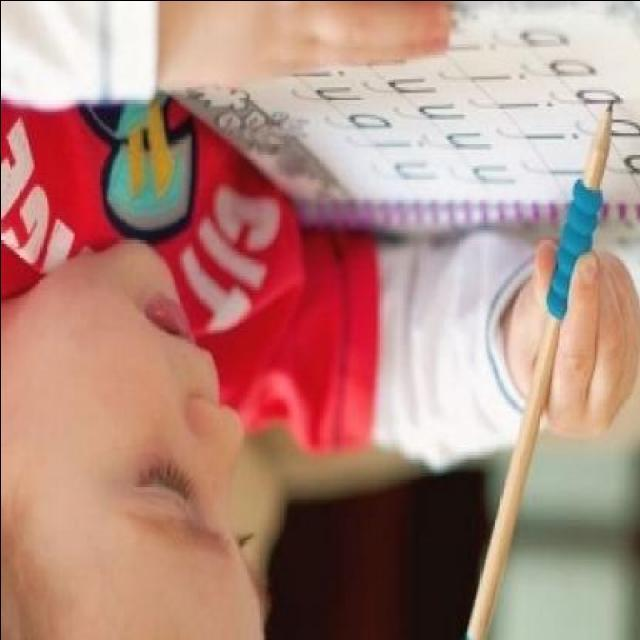Pencil: (582, 86, 624, 188)
